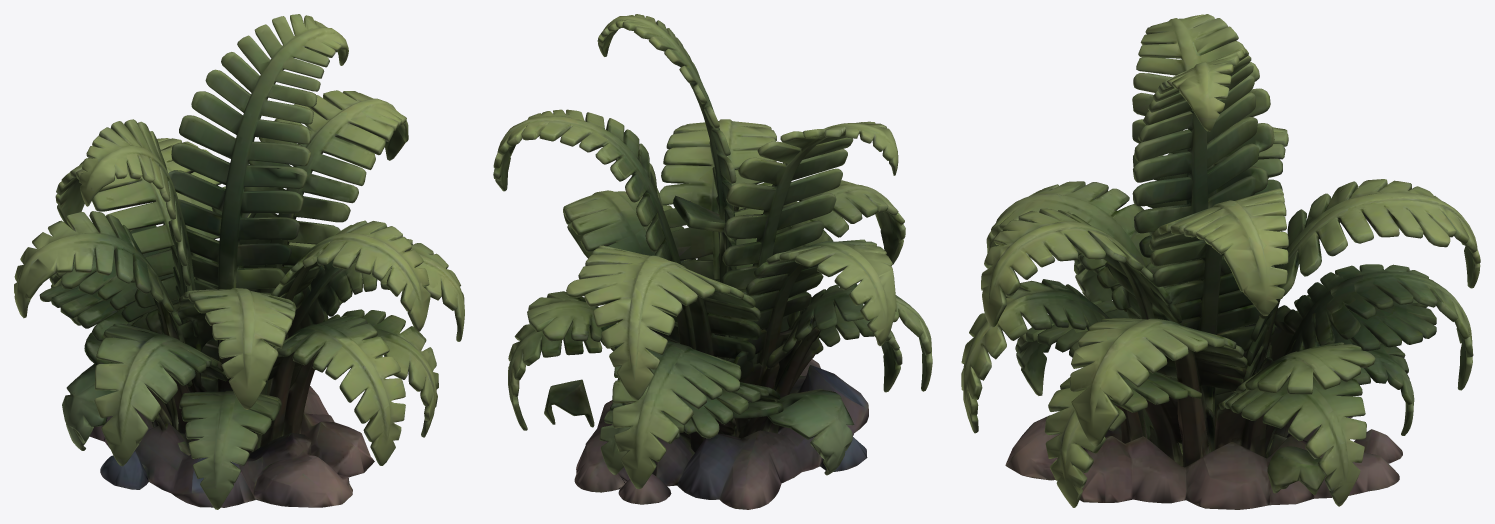
The model's file is fren3.opt.glb.
3 renders of one model, left to right at view 1: azimuth 30°, elevation 25°; view 2: azimuth 150°, elevation 25°; view 3: azimuth 270°, elevation 25°, orthographic. The views are drawn at different scales.
Parts seen in each view (by area): view 1: node_0; view 2: node_0; view 3: node_0.
Part boxes in pixels (box(x1,y1,x2,y2)): node_0: box(14, 14, 464, 509); node_0: box(493, 14, 932, 509); node_0: box(961, 14, 1480, 509).
Bounding box in the file's own units: 0.9044 × 0.8987 × 0.9628.
Materials: 1 (1 with a texture image).
